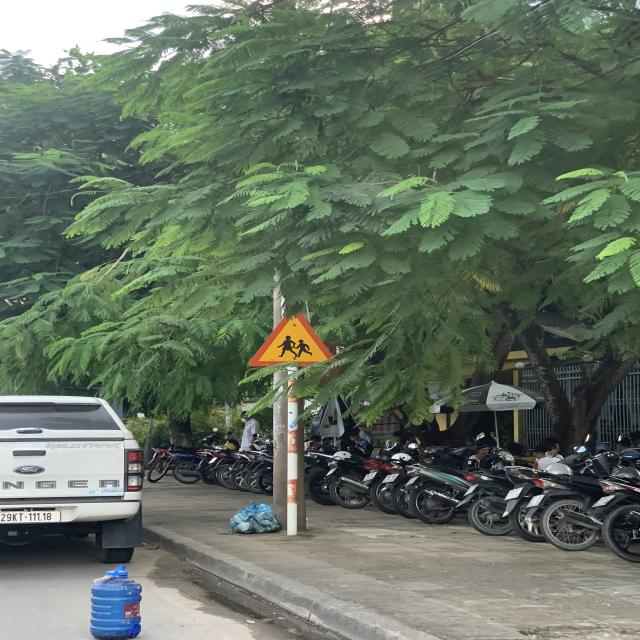Vong_Xuyen: (248, 309, 342, 367)
